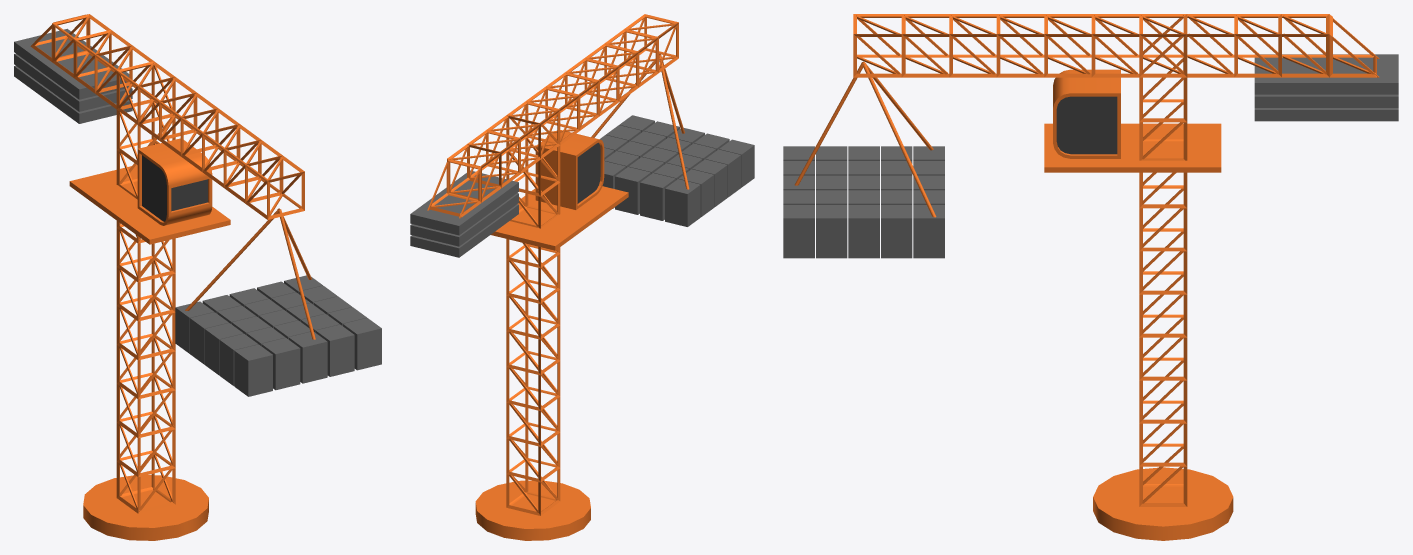
The model's file is Building_Crane.fbx.
The picture shows the model from 3 angles, left to right: view 1: azimuth 30°, elevation 25°; view 2: azimuth 150°, elevation 25°; view 3: azimuth 270°, elevation 25°; orthographic projection. The views are drawn at different scales.
Visible parts, largest first — view 1: Building_Crane; view 2: Building_Crane; view 3: Building_Crane.
Part boxes in pixels (x1,y1,x2,y2): Building_Crane: [14, 14, 381, 540]; Building_Crane: [410, 14, 754, 540]; Building_Crane: [783, 14, 1398, 540].
Size of the model in its own units: 2.41 by 7.61 by 8.71.
